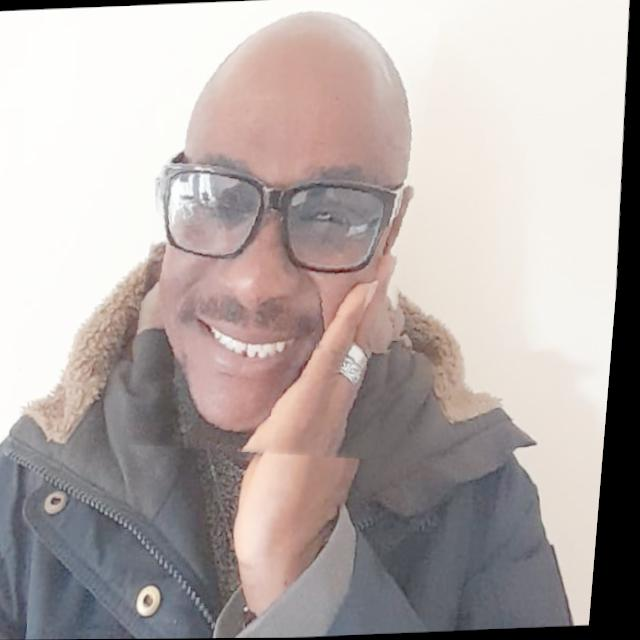happy: (122, 0, 446, 463)
